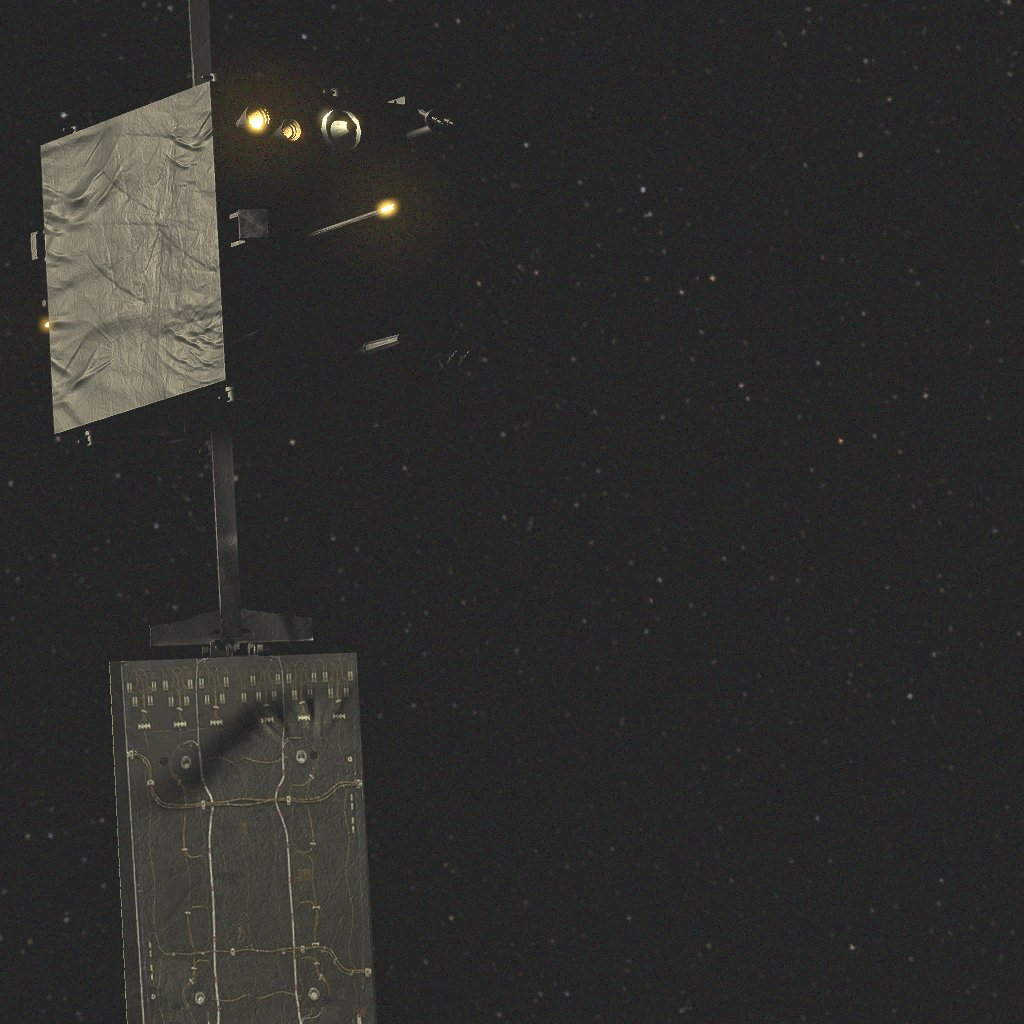smart_1: (31, 0, 470, 1024)
